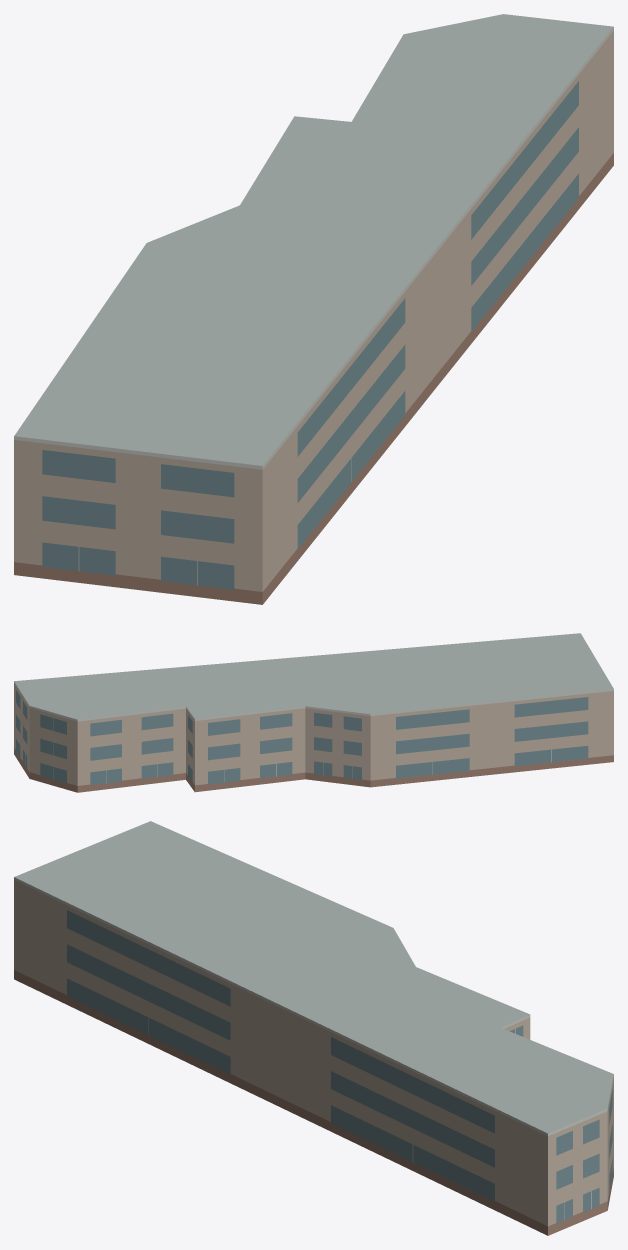
Rendered from survey-upis-32470160.glb.
The picture shows the model from 3 angles, top to bottom: view 1: azimuth 30°, elevation 25°; view 2: azimuth 150°, elevation 25°; view 3: azimuth 270°, elevation 25°; orthographic projection. The views are drawn at different scales.
Parts seen in each view (by area): view 1: survey-upis-32470160.tmp; view 2: survey-upis-32470160.tmp; view 3: survey-upis-32470160.tmp.
Part boxes in pixels (x1=…): survey-upis-32470160.tmp: x1=14, y1=14, x2=613, y2=604; survey-upis-32470160.tmp: x1=14, y1=633, x2=613, y2=792; survey-upis-32470160.tmp: x1=14, y1=821, x2=613, y2=1235.
Size of the model in its own units: 59.97 by 9.15 by 48.64.
